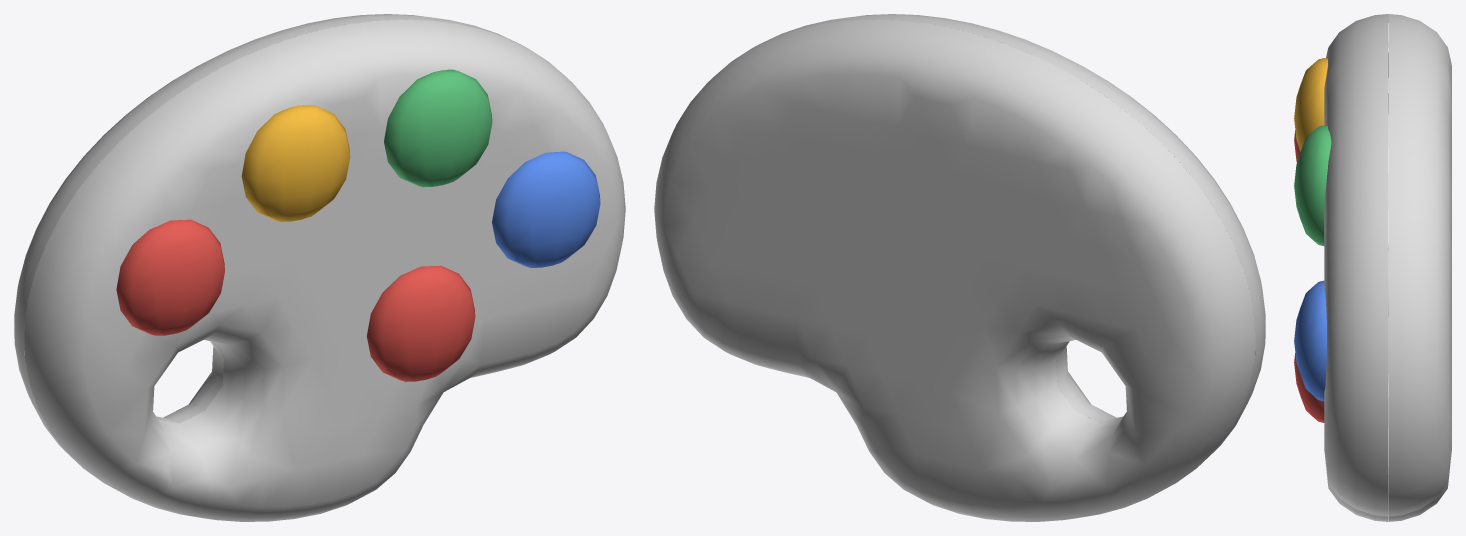
File: palette.glb
The picture shows the model from 3 angles, left to right: view 1: azimuth 30°, elevation 25°; view 2: azimuth 150°, elevation 25°; view 3: azimuth 270°, elevation 25°; orthographic projection. The views are drawn at different scales.
Visible parts, largest first — view 1: palette; view 2: palette; view 3: palette.
Boxes of the visible parts, x1,y1,x2,y2 form: palette: (14, 14, 625, 521); palette: (654, 14, 1265, 521); palette: (1294, 14, 1451, 521).
Bounding box in the file's own units: 1 × 0.767 × 0.2382.
